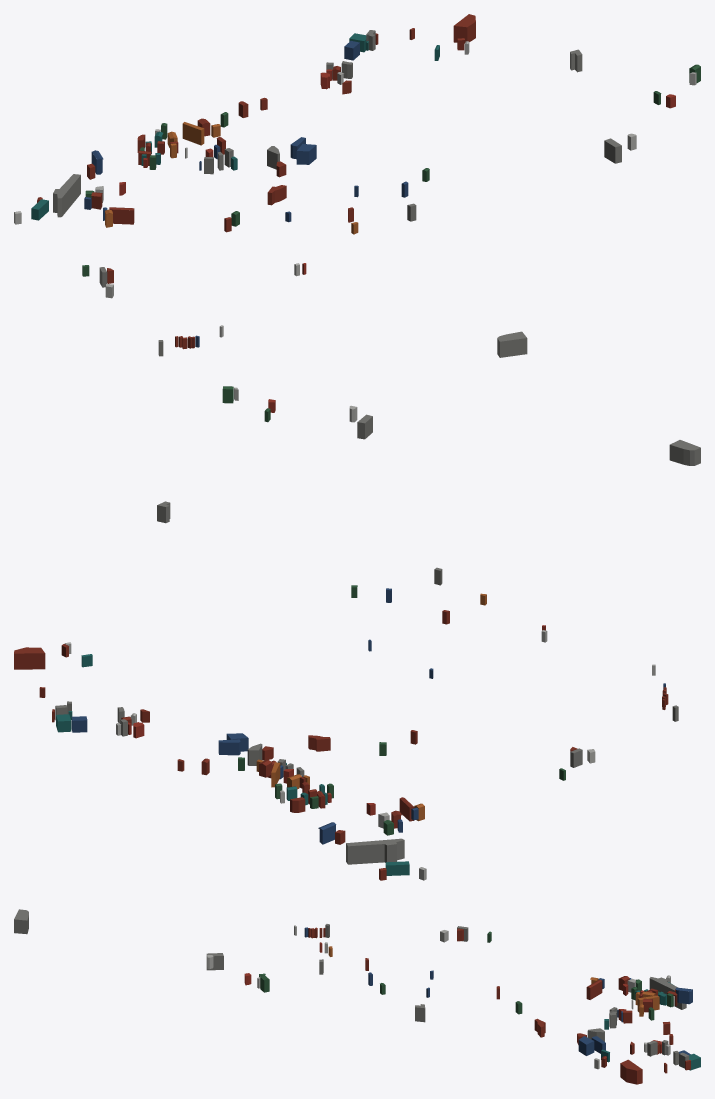
Rendered from near-15-27363-14862.fdda9e92.glb.
3 renders of one model, top to bottom at view 1: azimuth 30°, elevation 25°; view 2: azimuth 150°, elevation 25°; view 3: azimuth 270°, elevation 25°, orthographic. The views are drawn at different scales.
Size of the model in its own units: 845 by 361 by 1177.
